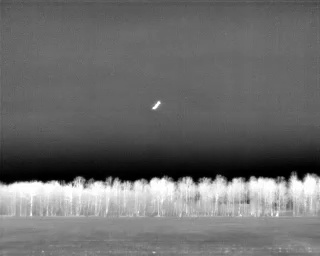DRONE: (148, 97, 165, 114)
